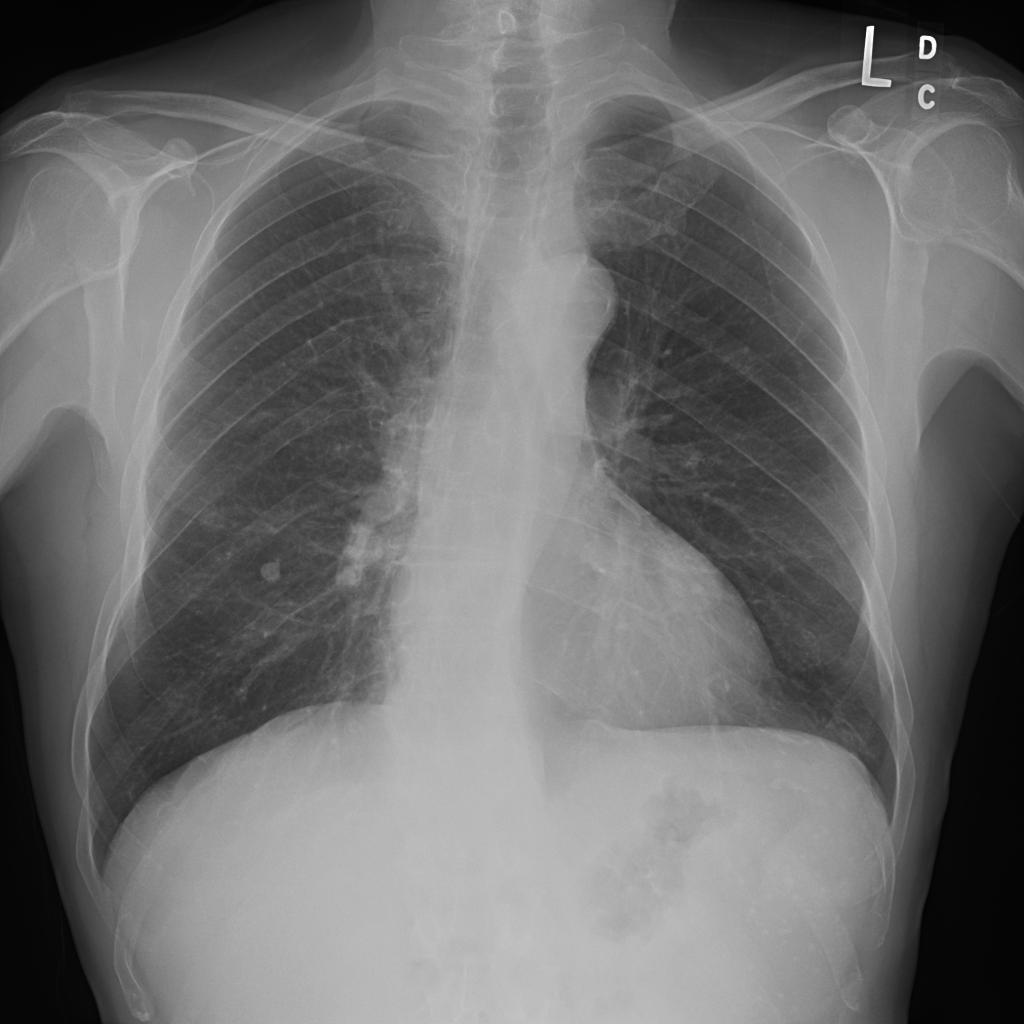Nodule: (118, 271, 158, 309), (330, 275, 368, 314)
